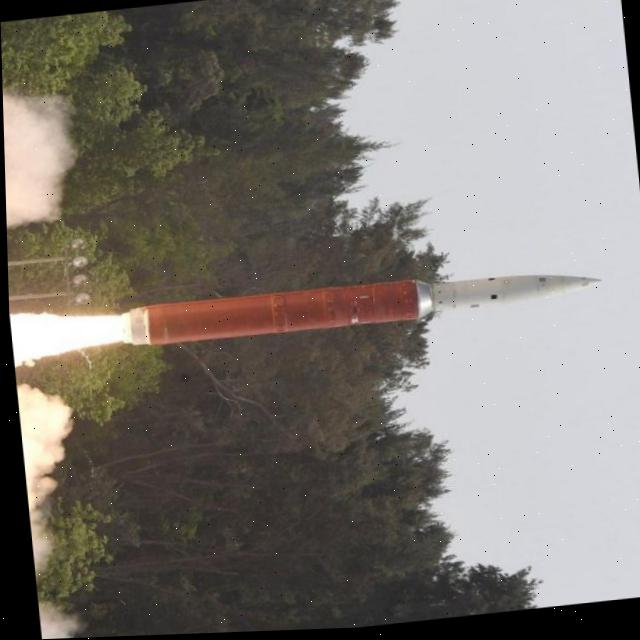missile: (116, 260, 605, 354)
